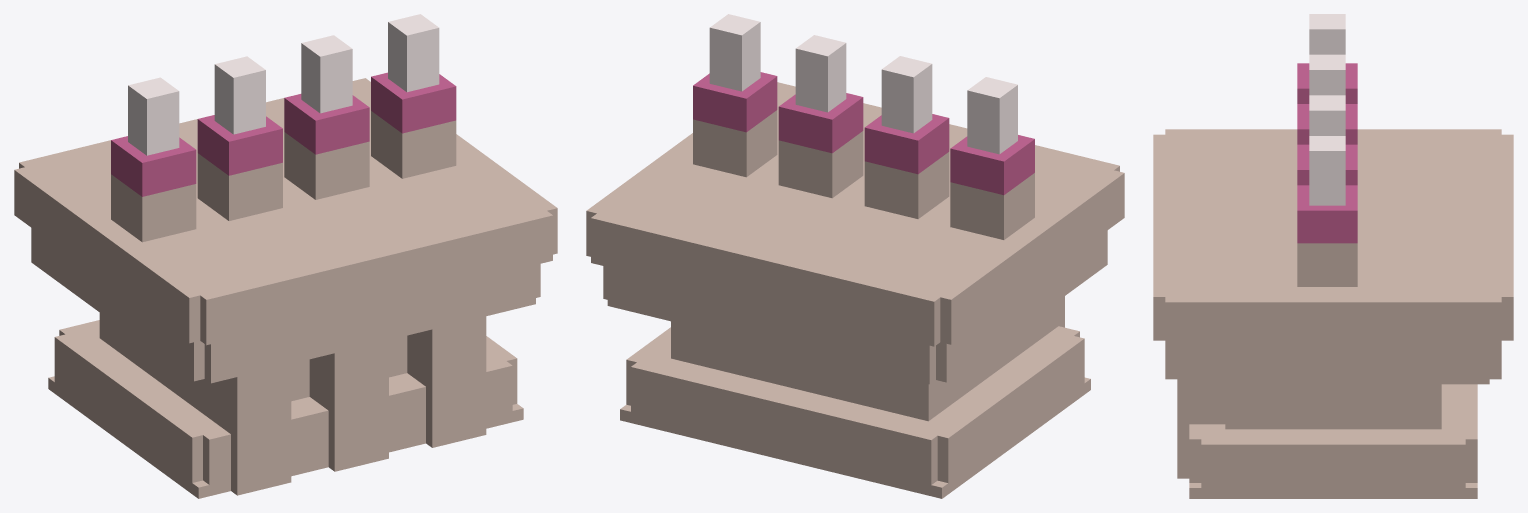
The picture shows the model from 3 angles, left to right: view 1: azimuth 30°, elevation 25°; view 2: azimuth 150°, elevation 25°; view 3: azimuth 270°, elevation 25°; orthographic projection. The views are drawn at different scales.
Visible parts, largest first — view 1: L034, L032, L033; view 2: L034, L032, L033; view 3: L034, L033, L032.
Part boxes in pixels (x1,y1,x2,y2): L034: [14, 78, 557, 498]; L032: [111, 72, 456, 196]; L033: [128, 14, 439, 155]; L034: [586, 82, 1124, 498]; L032: [693, 72, 1034, 195]; L033: [709, 14, 1017, 154]; L034: [1153, 129, 1513, 498]; L033: [1309, 14, 1345, 205]; L032: [1297, 63, 1357, 243].
Size of the model in its own units: 340 by 310 by 300.
Materials: 3 (3 with a texture image).
